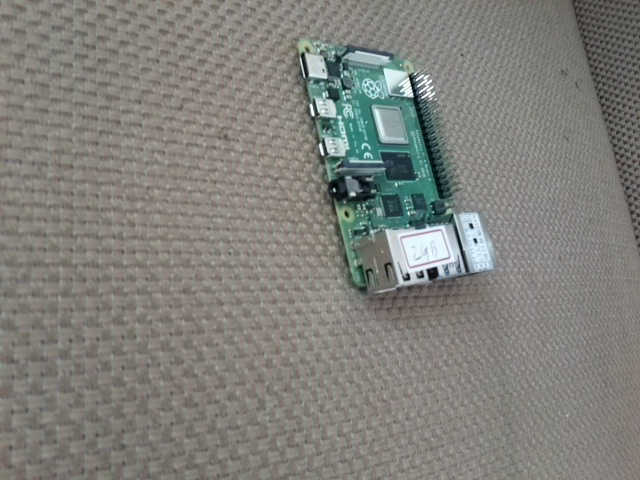Pi4: (290, 32, 500, 298)
